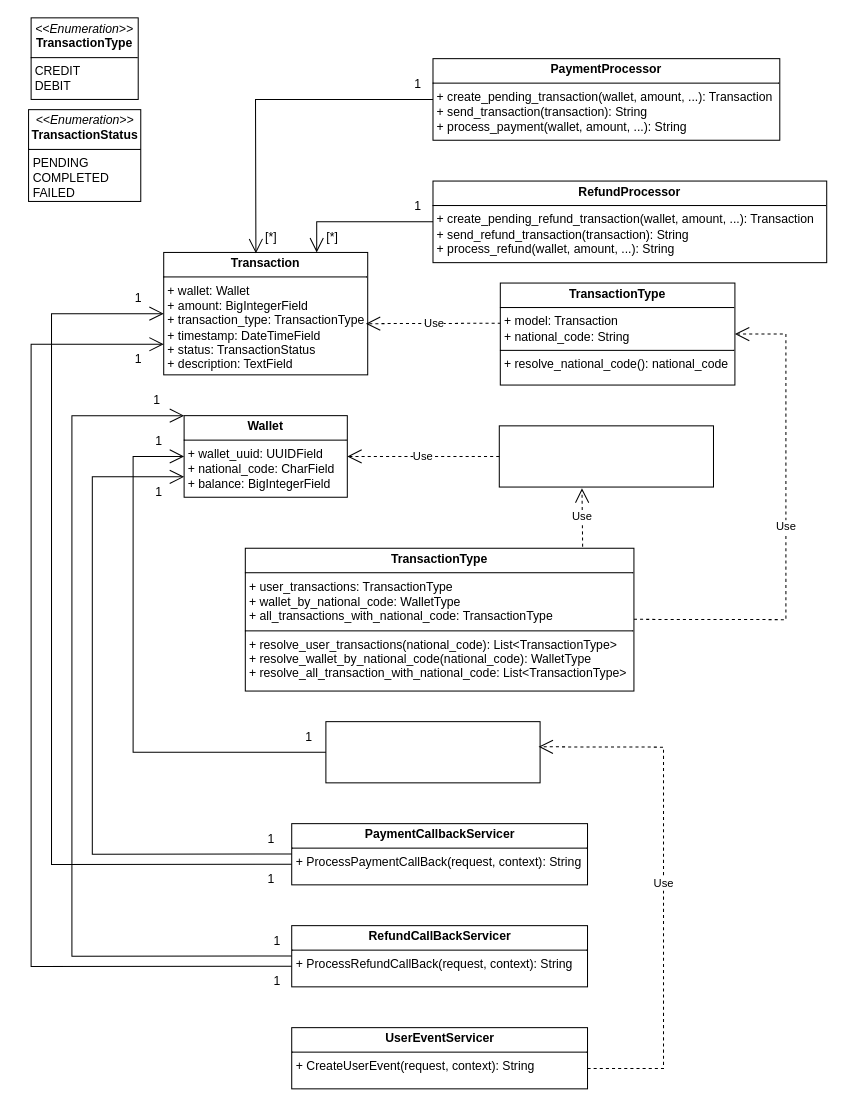
Image size: 845x1107. Some labels were removed from this diagram. The box of each missing label's shape, as (x1, y1, x2, y2) in pixels:
WalletCreationObserver + update(national_code): Wallet: (325, 721, 540, 783)
WalletType + model: Wallet: (498, 425, 713, 487)
